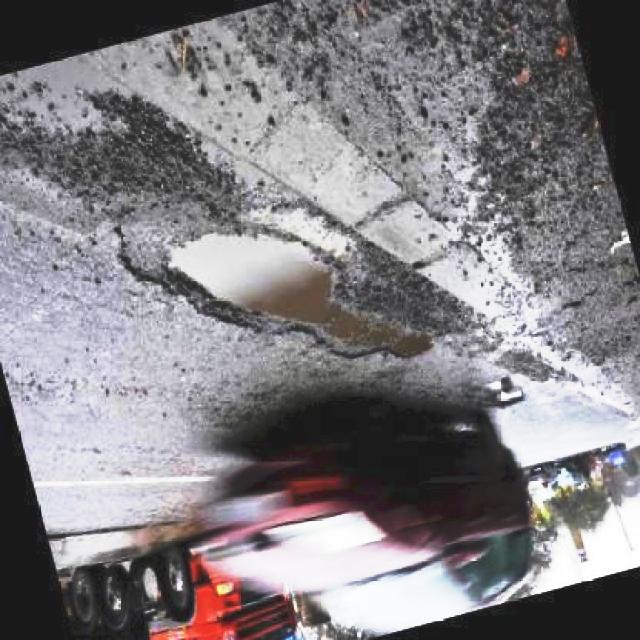pothole: (116, 192, 438, 363)
